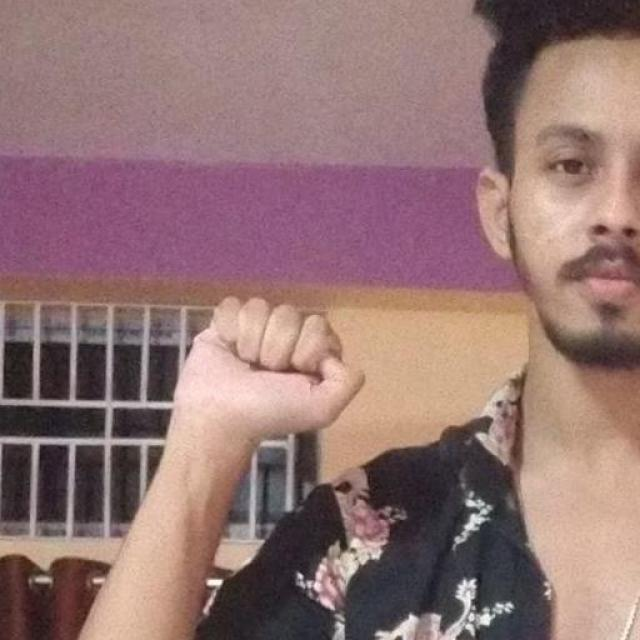hand: (169, 294, 366, 450)
